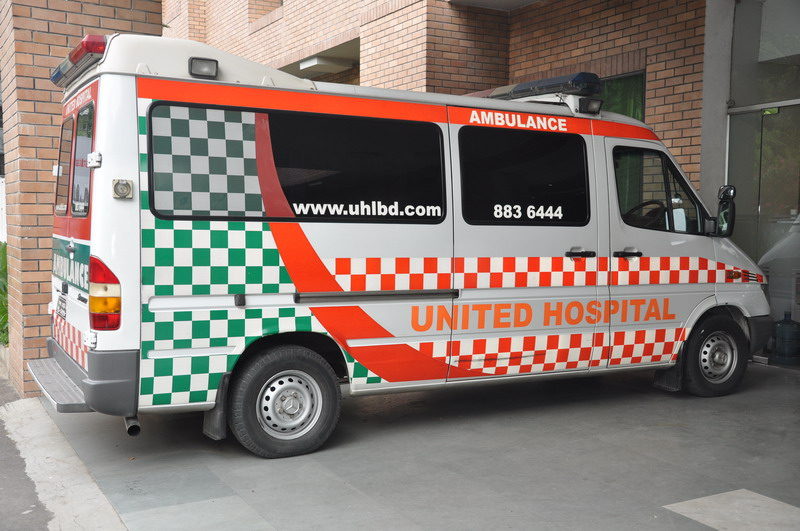ambulance: (24, 30, 774, 459)
